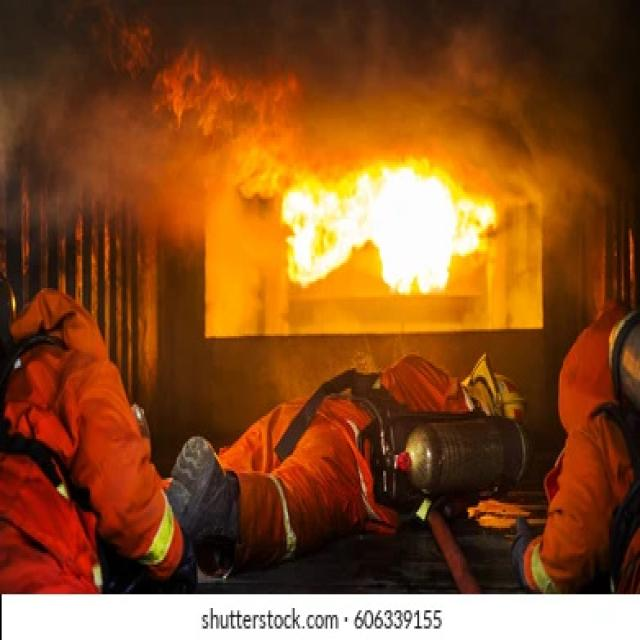fire: (281, 166, 500, 296)
